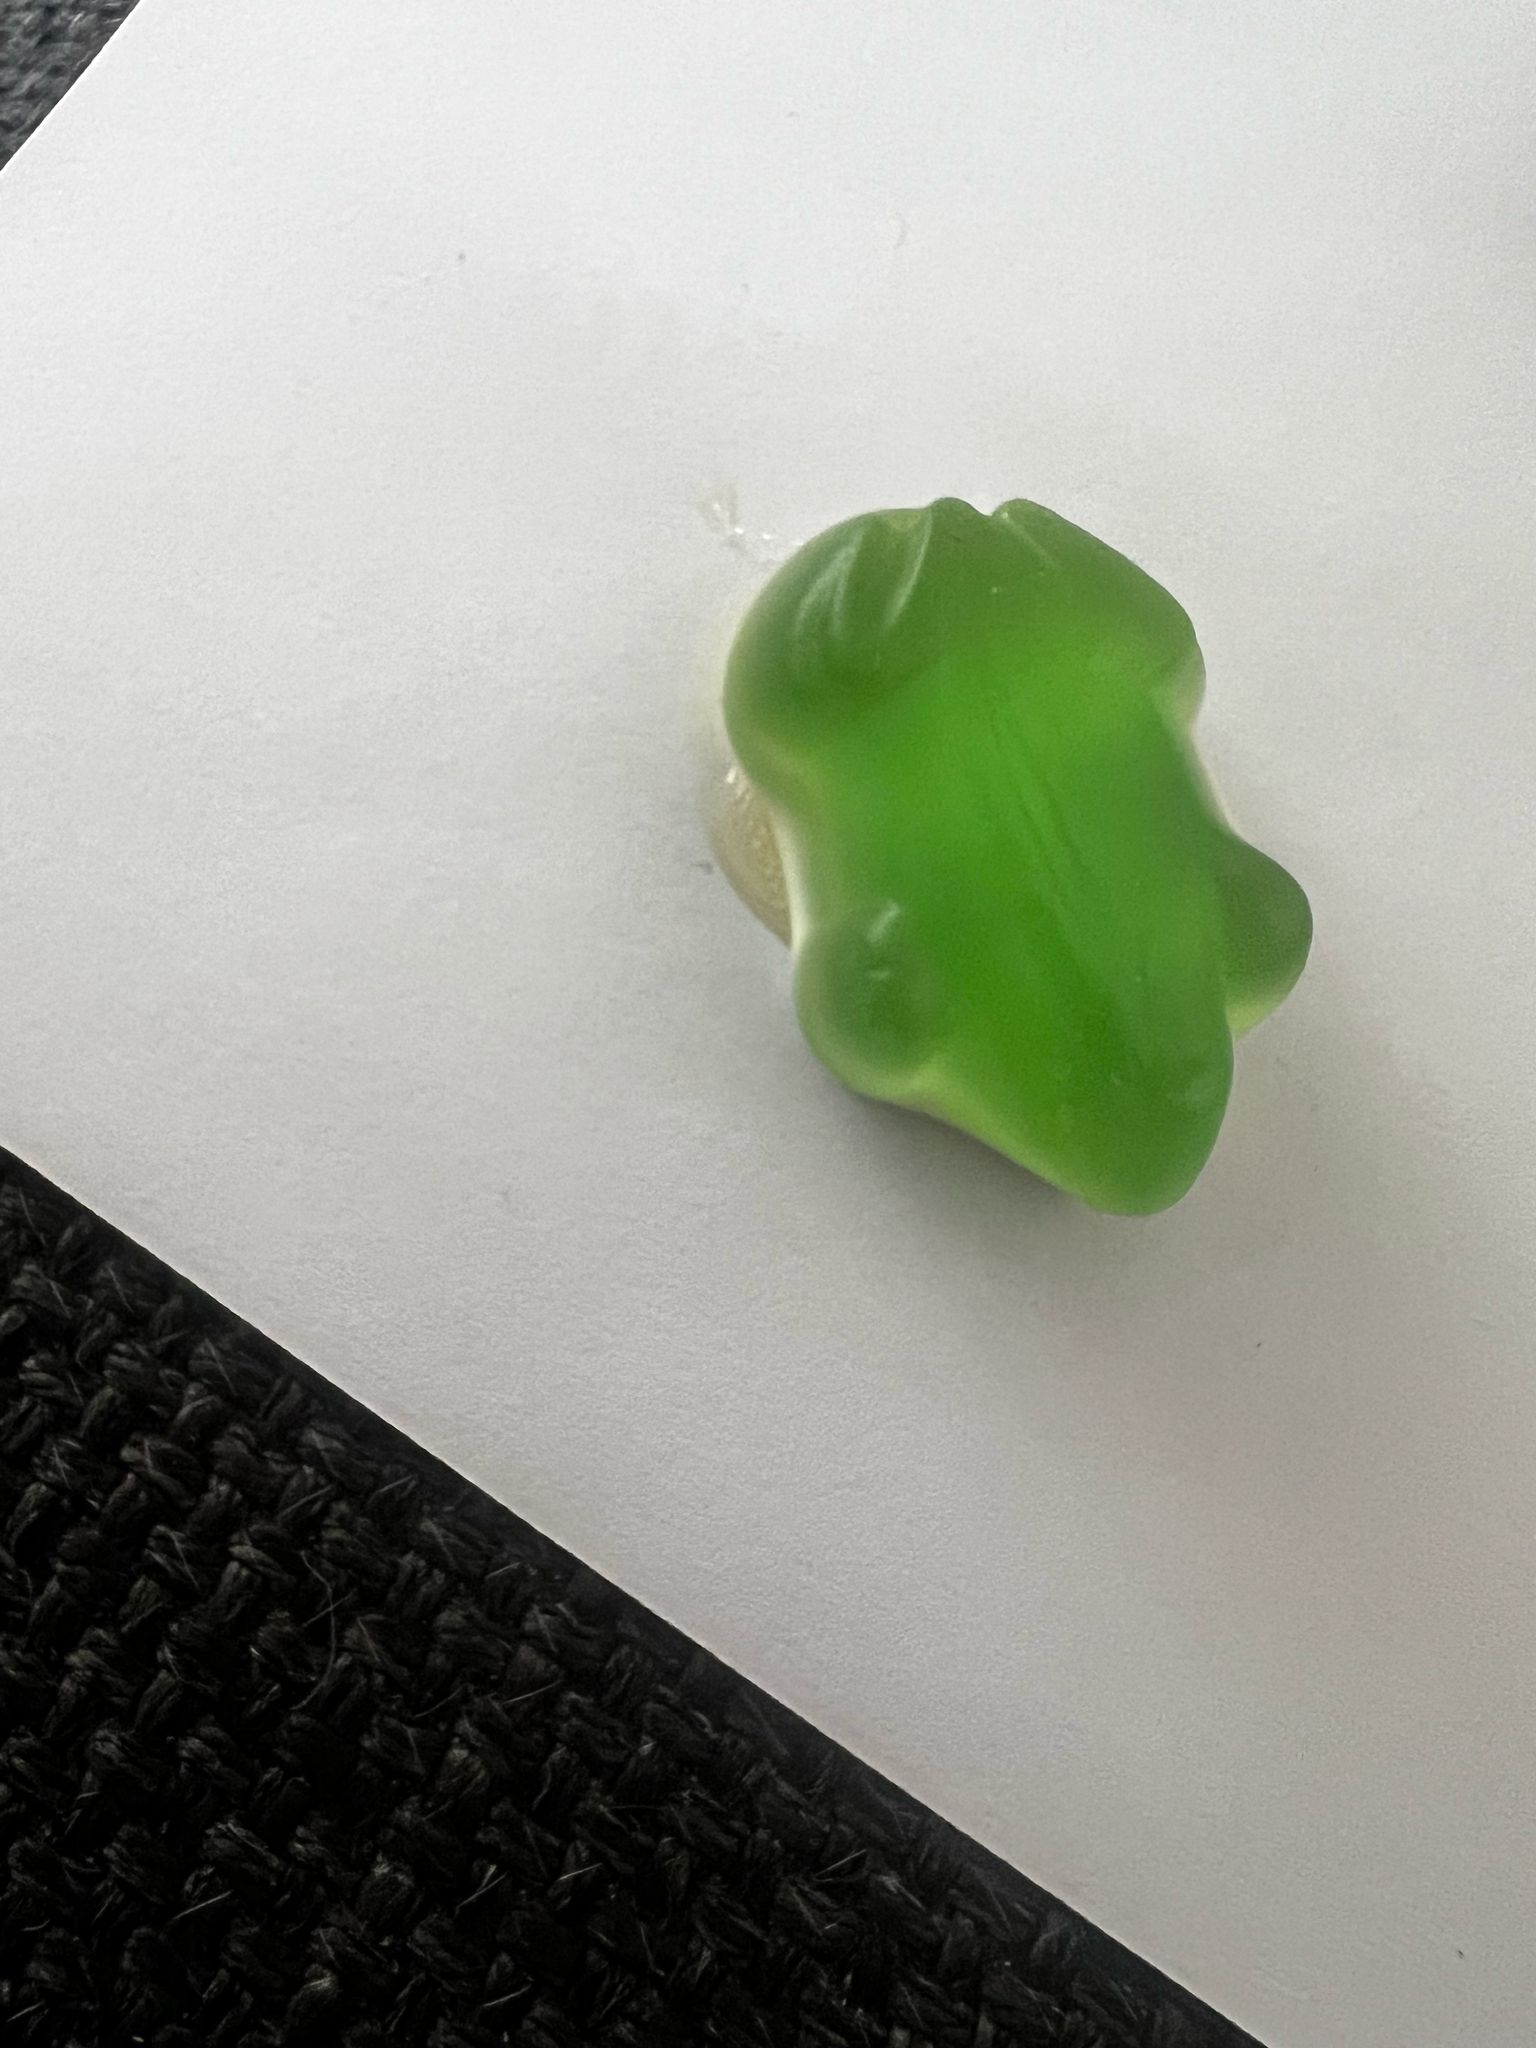frog: (715, 485, 1329, 1238)
